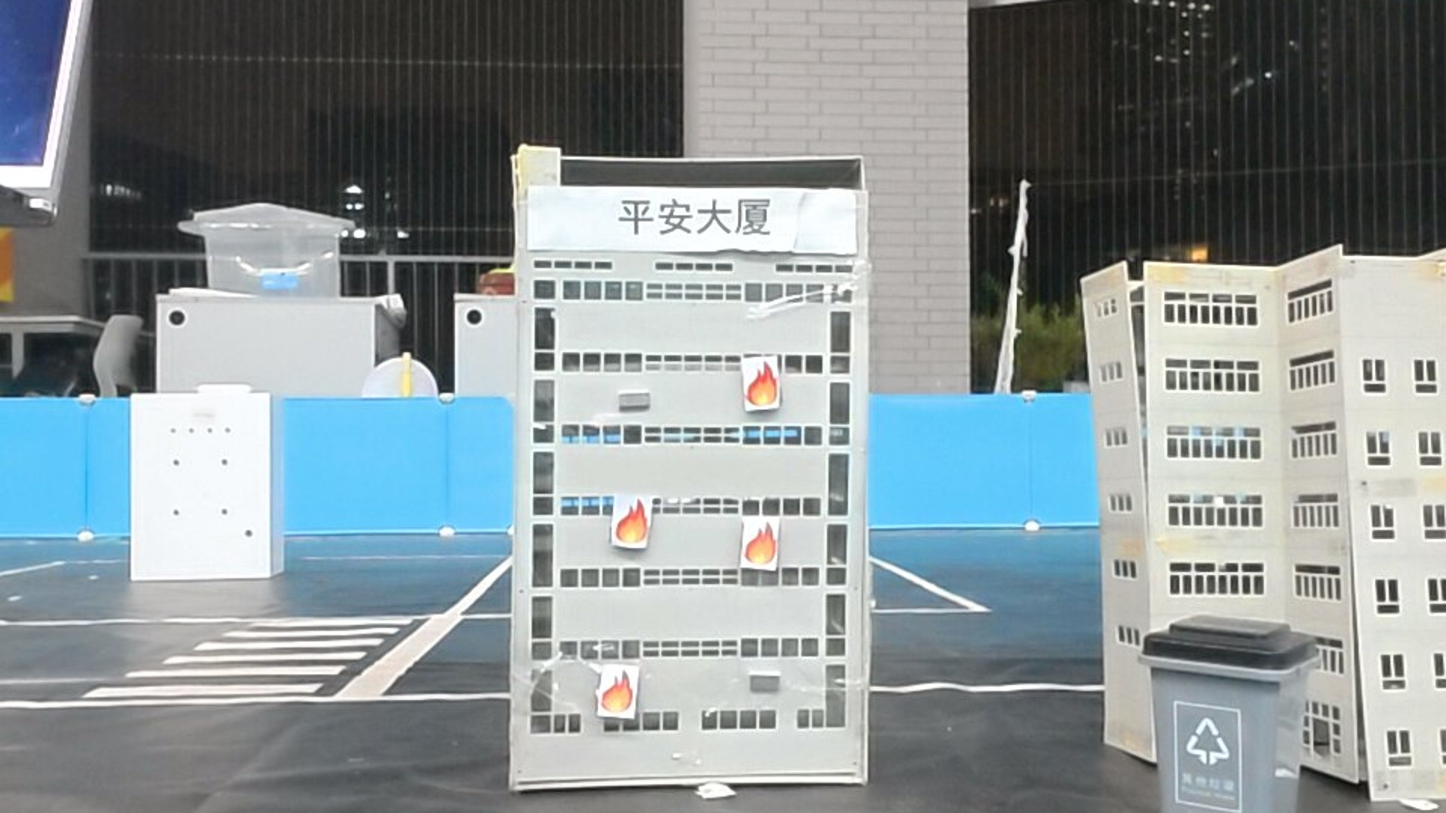fire: (611, 494, 654, 550), (597, 664, 639, 718), (741, 516, 782, 570), (742, 358, 783, 410)
